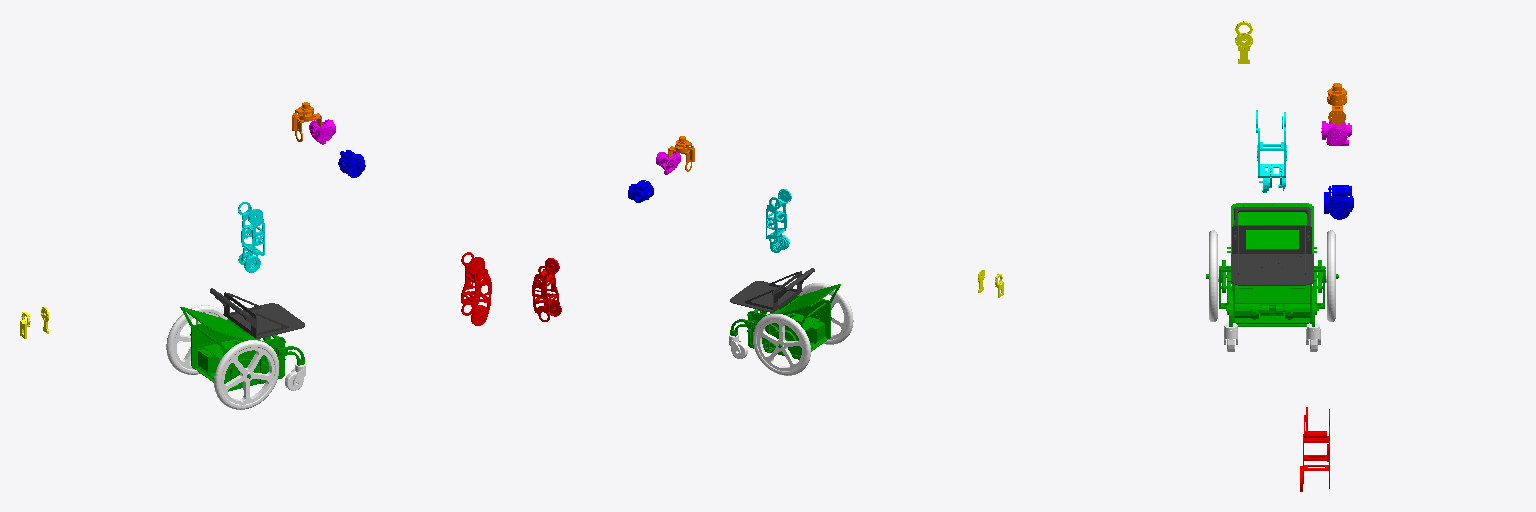
robot.urdf — 6dof_huboq:
<?xml version="1.0" ?>
<!-- =================================================================================== -->
<!-- |    This document was autogenerated by xacro from ./6dof_huboq_stl.xacro         | -->
<!-- |    EDITING THIS FILE BY HAND IS NOT RECOMMENDED                                 | -->
<!-- =================================================================================== -->
<robot name="6dof_huboq" xmlns:xacro="http://ros.org/wiki/xacro">
  <!-- Include materials -->
  <material name="Black">
    <color rgba="0.0 0.0 0.0 1.0"/>
  </material>
  <material name="Red">
    <color rgba="0.8 0.0 0.0 1.0"/>
  </material>
  <material name="White">
    <color rgba="1.0 1.0 1.0 1.0"/>
  </material>
  <!-- 0.311" -->
  <!-- BASE-FOOTPRINT -->
  <!-- base_footprint is a fictitious link(frame) that is on the ground right below base_link origin -->
  <link name="base_footprint">
    <inertial>
      <mass value="0.0001"/>
      <origin xyz="0 0 0"/>
      <inertia ixx="0.0001" ixy="0.0" ixz="0.0" iyy="0.0001" iyz="0.0" izz="0.0001"/>
    </inertial>
    <visual>
      <origin rpy="0 0 0" xyz="0 0 0"/>
      <geometry>
        <box size="0.001 0.001 0.001"/>
      </geometry>
    </visual>
  </link>
  <gazebo reference="base_footprint">
    <turnGravityOff>false</turnGravityOff>
  </gazebo>
  <joint name="base_footprint_joint" type="fixed">
    <origin rpy="0 0 0" xyz="0 0 0"/>
    <parent link="base_footprint"/>
    <child link="mp_body"/>
  </joint>
  <link name="mp_body">
    <visual>
      <geometry>
        <mesh filename="package://huboq_urdf_pkg/mesh/huboq_mp_stl-small/MP_Body.stl" scale="0.001 0.001 0.001"/>
      </geometry>
      <origin rpy="0 0 0" xyz="1.5 0.1155 0"/>
      <material name="green">
        <color rgba="0 0.7 0 1"/>
      </material>
    </visual>
    <collision>
      <geometry>
        <box size="0.4 0.4 0.3"/>
      </geometry>
      <origin rpy="0 0 0" xyz="0 0 0.2"/>
    </collision>
    <inertial>
      <mass value="1"/>
      <inertia ixx="0.5" ixy="0.0" ixz="0.0" iyy="0.5" iyz="0.0" izz="0.5"/>
    </inertial>
  </link>
  <gazebo reference="mp_body">
    <turnGravityOff>false</turnGravityOff>
  </gazebo>
  <link name="mp_left_caster">
    <visual>
      <geometry>
        <mesh filename="package://huboq_urdf_pkg/mesh/huboq_mp_stl-small/Caster_Blickle_Bracket_New.stl" scale="0.001 0.001 0.001"/>
      </geometry>
      <origin rpy="0 0 3.14159265359" xyz="0 0 0"/>
      <material name="white">
        <color rgba="1 1 1 1"/>
      </material>
    </visual>
    <collision>
      <geometry>
        <cylinder length="0.04" radius="0.03"/>
      </geometry>
      <origin rpy="0 0 0" xyz="0 0 0"/>
    </collision>
    <inertial>
      <mass value="1"/>
      <inertia ixx="0.5" ixy="0.0" ixz="0.0" iyy="0.5" iyz="0.0" izz="0.5"/>
    </inertial>
  </link>
  <joint name="mp_left_caster_joint" type="continuous">
    <parent link="mp_body"/>
    <child link="mp_left_caster"/>
    <origin xyz="0.282 -0.17 0.135"/>
    <axis xyz="0 0 1"/>
  </joint>
  <link name="mp_left_caster_wheel">
    <visual>
      <geometry>
        <mesh filename="package://huboq_urdf_pkg/mesh/huboq_mp_stl-small/Caster_Blickle_wheel.stl" scale="0.001 0.001 0.001"/>
      </geometry>
      <origin rpy="1.57079632679 0 0" xyz="0 0 0"/>
      <material name="white">
        <color rgba="1 1 1 1"/>
      </material>
    </visual>
    <collision>
      <geometry>
        <cylinder length="0.03" radius="0.05"/>
      </geometry>
      <origin rpy="1.57079632679 0 0" xyz="0 -0.0155 0"/>
    </collision>
    <inertial>
      <mass value="1"/>
      <inertia ixx="0.5" ixy="0.0" ixz="0.0" iyy="0.5" iyz="0.0" izz="0.5"/>
    </inertial>
  </link>
  <joint name="mp_left_caster_wheel_joint" type="continuous">
    <parent link="mp_left_caster"/>
    <child link="mp_left_caster_wheel"/>
    <origin xyz="-0.038 0.0165 -0.085"/>
    <axis xyz="0 1 0"/>
  </joint>
  <link name="mp_right_caster">
    <visual>
      <geometry>
        <mesh filename="package://huboq_urdf_pkg/mesh/huboq_mp_stl-small/Caster_Blickle_Bracket_New.stl" scale="0.001 0.001 0.001"/>
      </geometry>
      <origin rpy="0 0 3.14159265359" xyz="0 0 0"/>
      <material name="white">
        <color rgba="1 1 1 1"/>
      </material>
    </visual>
    <collision>
      <geometry>
        <cylinder length="0.04" radius="0.03"/>
      </geometry>
      <origin rpy="0 0 0" xyz="0 0 0"/>
    </collision>
    <inertial>
      <mass value="1"/>
      <inertia ixx="0.5" ixy="0.0" ixz="0.0" iyy="0.5" iyz="0.0" izz="0.5"/>
    </inertial>
  </link>
  <joint name="mp_right_caster_joint" type="continuous">
    <parent link="mp_body"/>
    <child link="mp_right_caster"/>
    <origin xyz="0.282 0.17 0.135"/>
    <axis xyz="0 0 1"/>
  </joint>
  <link name="mp_right_caster_wheel">
    <visual>
      <geometry>
        <mesh filename="package://huboq_urdf_pkg/mesh/huboq_mp_stl-small/Caster_Blickle_wheel.stl" scale="0.001 0.001 0.001"/>
      </geometry>
      <origin rpy="1.57079632679 0 0" xyz="0 0 0"/>
      <material name="white">
        <color rgba="1 1 1 1"/>
      </material>
    </visual>
    <collision>
      <geometry>
        <cylinder length="0.03" radius="0.05"/>
      </geometry>
      <origin rpy="1.57079632679 0 0" xyz="0 -0.0155 0"/>
    </collision>
    <inertial>
      <mass value="1"/>
      <inertia ixx="0.5" ixy="0.0" ixz="0.0" iyy="0.5" iyz="0.0" izz="0.5"/>
    </inertial>
  </link>
  <joint name="mp_right_caster_wheel_joint" type="continuous">
    <parent link="mp_right_caster"/>
    <child link="mp_right_caster_wheel"/>
    <origin xyz="-0.038 0.0165 -0.085"/>
    <axis xyz="0 1 0"/>
  </joint>
  <link name="mp_left_wheel">
    <visual>
      <geometry>
        <mesh filename="package://huboq_urdf_pkg/mesh/huboq_mp_stl-small/Wheel_Strida_16inch_Assy.stl" scale="0.001 0.001 0.001"/>
      </geometry>
      <origin rpy="1.570795 0 0" xyz="0.03 0 0"/>
      <material name="white">
        <color rgba="1 1 1 1"/>
      </material>
    </visual>
    <collision>
      <geometry>
        <cylinder length="0.04" radius="0.19"/>
      </geometry>
      <origin rpy="1.570795 0 0" xyz="0 0.01 0"/>
    </collision>
    <inertial>
      <mass value="1"/>
      <inertia ixx="0.5" ixy="0.0" ixz="0.0" iyy="0.5" iyz="0.0" izz="0.5"/>
    </inertial>
  </link>
  <joint name="mp_left_wheel_joint" type="continuous">
    <parent link="mp_body"/>
    <child link="mp_left_wheel"/>
    <origin xyz="-0.078 0.232 0.19"/>
    <axis xyz="0 1 0"/>
  </joint>
  <link name="mp_right_wheel">
    <visual>
      <geometry>
        <mesh filename="package://huboq_urdf_pkg/mesh/huboq_mp_stl-small/Wheel_Strida_16inch_Assy.stl" scale="0.001 0.001 0.001"/>
      </geometry>
      <origin rpy="-1.570795 0 0" xyz="0.03 0 0"/>
      <material name="white">
        <color rgba="1 1 1 1"/>
      </material>
    </visual>
    <collision>
      <geometry>
        <cylinder length="0.04" radius="0.19"/>
      </geometry>
      <origin rpy="-1.570795 0 0" xyz="0 -0.01 0"/>
    </collision>
    <inertial>
      <mass value="1"/>
      <inertia ixx="0.5" ixy="0.0" ixz="0.0" iyy="0.5" iyz="0.0" izz="0.5"/>
    </inertial>
  </link>
  <joint name="mp_right_wheel_joint" type="continuous">
    <parent link="mp_body"/>
    <child link="mp_right_wheel"/>
    <origin xyz="-0.078 -0.232 0.19"/>
    <axis xyz="0 1 0"/>
  </joint>
  <!-- MANI -->
  <joint name="mp_mani_joint" type="fixed">
    <parent link="mp_body"/>
    <child link="base_link"/>
    <origin xyz="0 0 0"/>
  </joint>
  <link name="base_link">
    <visual>
      <geometry>
        <mesh filename="package://huboq_urdf_pkg/mesh/huboq_mani_stl-small/base_link.stl" scale="0.001 0.001 0.001"/>
      </geometry>
      <origin rpy="0 0 0" xyz="0.157 0 0.33"/>
      <material name="yellow">
        <color rgba="1 1 0 1"/>
      </material>
    </visual>
    <collision>
      <geometry>
        <box size="0.14 0.07 0.1"/>
      </geometry>
      <origin rpy="0 0 0" xyz="0.09 0 0.36"/>
    </collision>
    <inertial>
      <mass value="1"/>
      <inertia ixx="0.5" ixy="0.0" ixz="0.0" iyy="0.5" iyz="0.0" izz="0.5"/>
    </inertial>
  </link>
  <joint name="HR_joint" type="revolute">
    <parent link="base_link"/>
    <child link="HR_link"/>
    <origin xyz="0.078 0 0.41"/>
    <axis xyz="1 0 0"/>
    <limit effort="300" lower="-0.698131700798" upper="0.698131700798" velocity="0.1"/>
    <dynamics damping="50" friction="1"/>
  </joint>
  <link name="HR_link">
    <visual>
      <geometry>
        <!-- <cylinder length="${HR_link_length}" radius="${HR_link_radius}"/> -->
        <mesh filename="package://huboq_urdf_pkg/mesh/huboq_mani_stl-small/hip_roll_link.stl" scale="0.001 0.001 0.001"/>
      </geometry>
      <!-- <origin rpy="0 ${90.*M_PI/180.} 0" xyz="0 0 0"/> -->
      <origin rpy="0 0 0" xyz="0.707 0.278 0.536"/>
      <material name="blue">
        <color rgba="0 0 1 1"/>
      </material>
    </visual>
    <collision>
      <geometry>
        <cylinder length="0.13" radius="0.06"/>
      </geometry>
      <origin rpy="0 1.570795 0" xyz="0 0 0"/>
    </collision>
    <inertial>
      <mass value="1"/>
      <inertia ixx="0.5" ixy="0.0" ixz="0.0" iyy="0.5" iyz="0.0" izz="0.5"/>
    </inertial>
  </link>
  <joint name="HP_joint" type="revolute">
    <parent link="HR_link"/>
    <child link="HP_link"/>
    <origin xyz="0 0 0"/>
    <axis xyz="0 1 0"/>
    <limit effort="300" lower="-1.3962634016" upper="1.3962634016" velocity="0.1"/>
    <dynamics damping="50" friction="1"/>
  </joint>
  <link name="HP_link">
    <visual>
      <geometry>
        <!-- <box size="${HP_link_length} ${HP_link_width} ${HP_link_height}"/> -->
        <mesh filename="package://huboq_urdf_pkg/mesh/huboq_mani_stl-small/hip_pitch_link.stl" scale="0.001 0.001 0.001"/>
      </geometry>
      <!-- <origin rpy="0 0 0" xyz="0 0 ${HP_link_height/2}"/> -->
      <origin rpy="0 0 0" xyz="1.4214 0.115 -0.4095"/>
      <material name="red">
        <color rgba="1 0 0 1"/>
      </material>
    </visual>
    <collision>
      <geometry>
        <box size="0.1 0.11 0.28"/>
      </geometry>
      <origin rpy="0 0 0" xyz="0 0 0.14"/>
    </collision>
    <inertial>
      <mass value="1"/>
      <inertia ixx="0.5" ixy="0.0" ixz="0.0" iyy="0.5" iyz="0.0" izz="0.5"/>
    </inertial>
  </link>
  <joint name="Knee_joint" type="revolute">
    <parent link="HP_link"/>
    <child link="Knee_link"/>
    <origin xyz="0 0 0.28"/>
    <axis xyz="0 1 0"/>
    <limit effort="300" lower="-2.79252680319" upper="1.3962634016" velocity="0.1"/>
    <dynamics damping="50" friction="1"/>
  </joint>
  <link name="Knee_link">
    <visual>
      <geometry>
        <!--<box size="${Knee_link_length} ${Knee_link_width} ${Knee_link_height}"/> -->
        <mesh filename="package://huboq_urdf_pkg/mesh/huboq_mani_stl-small/knee_link.stl" scale="0.001 0.001 0.001"/>
      </geometry>
      <!-- <origin rpy="0 0 0" xyz="0 0 ${Knee_link_height/2}"/> -->
      <origin rpy="0 0 0" xyz="0.0008 0.0583 0.0005"/>
      <material name="cyon">
        <color rgba="0 1 1 1"/>
      </material>
    </visual>
    <collision>
      <geometry>
        <box size="0.1 0.11 0.28"/>
      </geometry>
      <origin rpy="0 0 0" xyz="0 0 0.14"/>
    </collision>
    <inertial>
      <mass value="1"/>
      <inertia ixx="0.5" ixy="0.0" ixz="0.0" iyy="0.5" iyz="0.0" izz="0.5"/>
    </inertial>
  </link>
  <joint name="AP_joint" type="revolute">
    <parent link="Knee_link"/>
    <child link="AP_link"/>
    <origin xyz="0 0 0.28"/>
    <axis xyz="0 1 0"/>
    <limit effort="300" lower="-1.57079632679" upper="1.57079632679" velocity="0.1"/>
    <dynamics damping="50" friction="1"/>
  </joint>
  <link name="AP_link">
    <visual>
      <geometry>
        <!-- <cylinder length="${AP_link_length}" radius="${AP_link_radius}"/> -->
        <mesh filename="package://huboq_urdf_pkg/mesh/huboq_mani_stl-small/ankle_pitch_link.stl" scale="0.001 0.001 0.001"/>
      </geometry>
      <!-- <origin rpy="${90.*M_PI/180.} 0 0" xyz="0 0 0"/> -->
      <origin rpy="0 0 0" xyz="0.5709 0.2673 0.222"/>
      <material name="Magenta">
        <color rgba="1 0 1 1"/>
      </material>
    </visual>
    <collision>
      <geometry>
        <cylinder length="0.12" radius="0.06"/>
      </geometry>
      <origin rpy="1.570795 0 0" xyz="0 0 0"/>
    </collision>
    <inertial>
      <mass value="1"/>
      <inertia ixx="0.5" ixy="0.0" ixz="0.0" iyy="0.5" iyz="0.0" izz="0.5"/>
    </inertial>
  </link>
  <joint name="AR_joint" type="revolute">
    <parent link="AP_link"/>
    <child link="AR_link"/>
    <origin xyz="0 0 0"/>
    <axis xyz="1 0 0"/>
    <limit effort="300" lower="-1.3962634016" upper="1.3962634016" velocity="0.1"/>
    <dynamics damping="50" friction="1"/>
  </joint>
  <link name="AR_link">
    <visual>
      <geometry>
        <!-- <box size="${AR_link_length} ${AR_link_width} ${AR_link_height}"/> -->
        <mesh filename="package://huboq_urdf_pkg/mesh/huboq_mani_stl-small/ankle_roll_link.stl" scale="0.001 0.001 0.001"/>
      </geometry>
      <!-- <origin rpy="0 0 0" xyz="0 0 ${AR_link_height/2}"/> -->
      <origin rpy="0 0 0" xyz="0.571 0.2672 0.222"/>
      <material name="orange">
        <color rgba="1 0.5 0 1"/>
      </material>
    </visual>
    <collision>
      <geometry>
        <box size="0.15 0.1 0.175"/>
      </geometry>
      <origin rpy="0 0 0" xyz="0 0 0.0875"/>
    </collision>
    <inertial>
      <mass value="1"/>
      <inertia ixx="0.5" ixy="0.0" ixz="0.0" iyy="0.5" iyz="0.0" izz="0.5"/>
    </inertial>
  </link>
  <joint name="AY_joint" type="revolute">
    <parent link="AR_link"/>
    <child link="AY_link"/>
    <origin xyz="0 0 0.175"/>
    <axis xyz="0 0 1"/>
    <limit effort="300" lower="-3.14" upper="3.14" velocity="0.1"/>
    <dynamics damping="50" friction="1"/>
  </joint>
  <link name="AY_link">
    <visual>
      <geometry>
        <!-- <box size="${AY_link_length} ${AY_link_width} ${AY_link_height}"/>  -->
        <mesh filename="package://huboq_urdf_pkg/mesh/huboq_mani_stl-small/ankle_yaw_link.stl" scale="0.001 0.001 0.001"/>
      </geometry>
      <!-- <origin rpy="0 0 0" xyz="0 0 ${AY_link_height/2}"/> -->
      <origin rpy="0 0 0" xyz="0.076 0 -0.816"/>
      <material name="Gray">
        <color rgba="0.3 0.3 0.3 1"/>
      </material>
    </visual>
    <collision>
      <geometry>
        <box size="0.4 0.35 0.18"/>
      </geometry>
      <origin rpy="0 0 0" xyz="-0.028 0 0.09"/>
    </collision>
    <inertial>
      <mass value="1"/>
      <inertia ixx="0.5" ixy="0.0" ixz="0.0" iyy="0.5" iyz="0.0" izz="0.5"/>
    </inertial>
  </link>
  <!-- ///////////////////////////////////////////////////////////////////////////////////////////////////////////////////// -->
  <!-- Transmissions for ROS Control -->
  <transmission name="tran1">
    <type>transmission_interface/SimpleTransmission</type>
    <joint name="HR_joint">
      <hardwareInterface>hardware_interface/PositionJointInterface</hardwareInterface>
    </joint>
    <actuator name="motor1">
      <hardwareInterface>hardware_interface/PositionJointInterface</hardwareInterface>
      <mechanicalReduction>1</mechanicalReduction>
    </actuator>
  </transmission>
  <transmission name="tran1">
    <type>transmission_interface/SimpleTransmission</type>
    <joint name="HP_joint">
      <hardwareInterface>hardware_interface/PositionJointInterface</hardwareInterface>
    </joint>
    <actuator name="motor1">
      <hardwareInterface>hardware_interface/PositionJointInterface</hardwareInterface>
      <mechanicalReduction>1</mechanicalReduction>
    </actuator>
  </transmission>
  <transmission name="tran1">
    <type>transmission_interface/SimpleTransmission</type>
    <joint name="Knee_joint">
      <hardwareInterface>hardware_interface/PositionJointInterface</hardwareInterface>
    </joint>
    <actuator name="motor1">
      <hardwareInterface>hardware_interface/PositionJointInterface</hardwareInterface>
      <mechanicalReduction>1</mechanicalReduction>
    </actuator>
  </transmission>
  <transmission name="tran1">
    <type>transmission_interface/SimpleTransmission</type>
    <joint name="AP_joint">
      <hardwareInterface>hardware_interface/PositionJointInterface</hardwareInterface>
    </joint>
    <actuator name="motor1">
      <hardwareInterface>hardware_interface/PositionJointInterface</hardwareInterface>
      <mechanicalReduction>1</mechanicalReduction>
    </actuator>
  </transmission>
  <transmission name="tran1">
    <type>transmission_interface/SimpleTransmission</type>
    <joint name="AR_joint">
      <hardwareInterface>hardware_interface/PositionJointInterface</hardwareInterface>
    </joint>
    <actuator name="motor1">
      <hardwareInterface>hardware_interface/PositionJointInterface</hardwareInterface>
      <mechanicalReduction>1</mechanicalReduction>
    </actuator>
  </transmission>
  <transmission name="tran1">
    <type>transmission_interface/SimpleTransmission</type>
    <joint name="AY_joint">
      <hardwareInterface>hardware_interface/PositionJointInterface</hardwareInterface>
    </joint>
    <actuator name="motor1">
      <hardwareInterface>hardware_interface/PositionJointInterface</hardwareInterface>
      <mechanicalReduction>1</mechanicalReduction>
    </actuator>
  </transmission>
  <!-- ros_control plugin -->
  <gazebo>
    <plugin filename="libgazebo_ros_control.so" name="gazebo_ros_control">
      <robotNamespace>/6dof_huboq</robotNamespace>
    </plugin>
  </gazebo>
</robot>

--- What the picture shows (computed from the rendered views, not written in the file) ---
3 views of the same robot in one strip: view 1: azimuth 30°, elevation 25°; view 2: azimuth 150°, elevation 25°; view 3: azimuth 270°, elevation 25° (orthographic).
Robot: 6dof_huboq — 15 links, 14 joints (6 revolute, 6 continuous, 2 fixed); root link base_footprint; default pose: all joints at 0.
Visible links, largest first — view 1: mp_body, mp_right_wheel, AY_link, HP_link, Knee_link, mp_left_wheel, HR_link, AR_link; view 2: mp_body, mp_left_wheel, AY_link, HP_link, Knee_link, mp_right_wheel; view 3: mp_body, AY_link, Knee_link, HP_link, HR_link, mp_left_wheel, mp_right_wheel, AR_link, AP_link.
Boxes of the visible links, box(x1,y1,x2,y2) form: mp_body: box(180, 307, 304, 391); mp_right_wheel: box(214, 340, 278, 409); AY_link: box(210, 288, 304, 338); HP_link: box(461, 252, 491, 325); Knee_link: box(238, 202, 264, 272); mp_left_wheel: box(166, 305, 227, 374); HR_link: box(338, 150, 365, 177); AR_link: box(292, 102, 321, 141); mp_body: box(730, 284, 840, 359); mp_left_wheel: box(753, 314, 810, 375); AY_link: box(730, 268, 814, 312); HP_link: box(532, 258, 561, 321); Knee_link: box(766, 189, 791, 252); mp_right_wheel: box(799, 283, 853, 344); mp_body: box(1206, 203, 1338, 326); AY_link: box(1231, 207, 1313, 285); Knee_link: box(1256, 110, 1286, 192); HP_link: box(1300, 407, 1329, 491); HR_link: box(1324, 185, 1353, 219); mp_left_wheel: box(1326, 230, 1335, 321); mp_right_wheel: box(1209, 230, 1218, 321); AR_link: box(1327, 83, 1346, 125); AP_link: box(1321, 120, 1351, 145).
Size in the robot's own frame: 2.9 by 0.6102 by 1.41 metres.
Meshes: 11 distinct files referenced, 14 mesh visuals loaded (11 binary STL).
